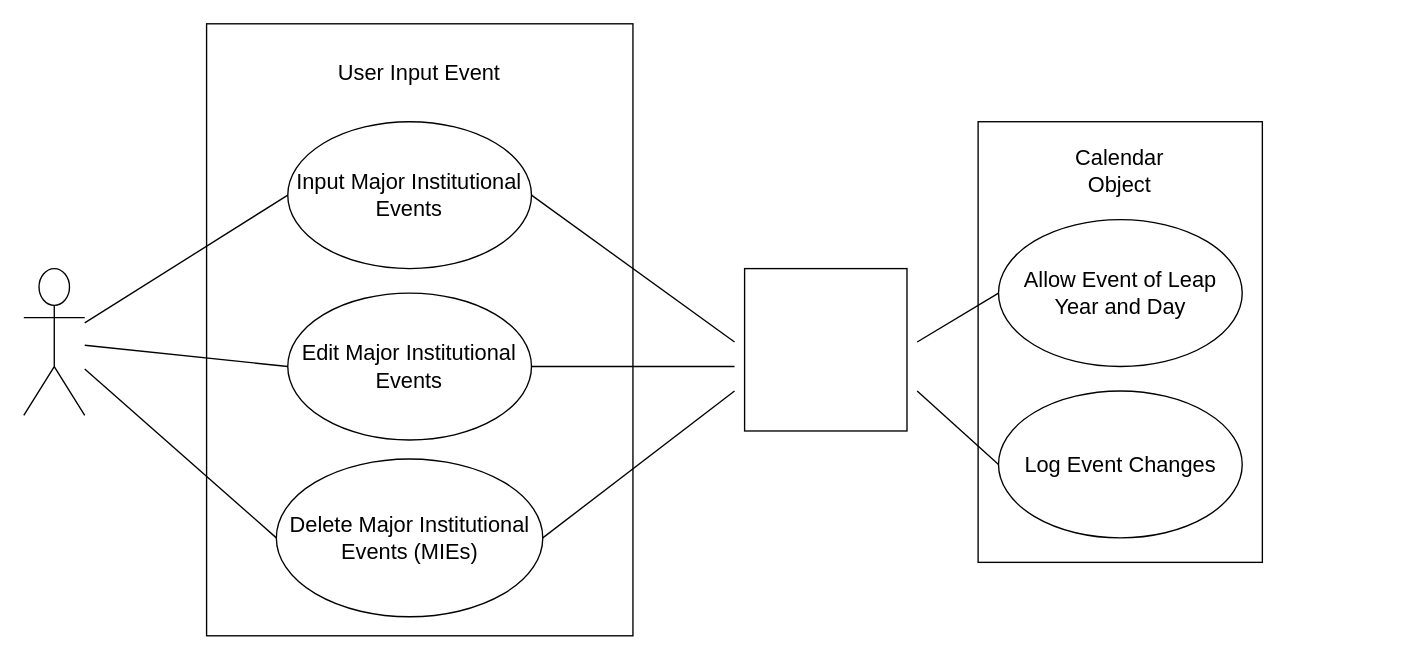
Image size: 1408x660. Some labels were removed from this diagram. The centre of each missing label's shape, as x and y in pixels:
Calendar Application: (x=825, y=349)
User: (x=53, y=341)
